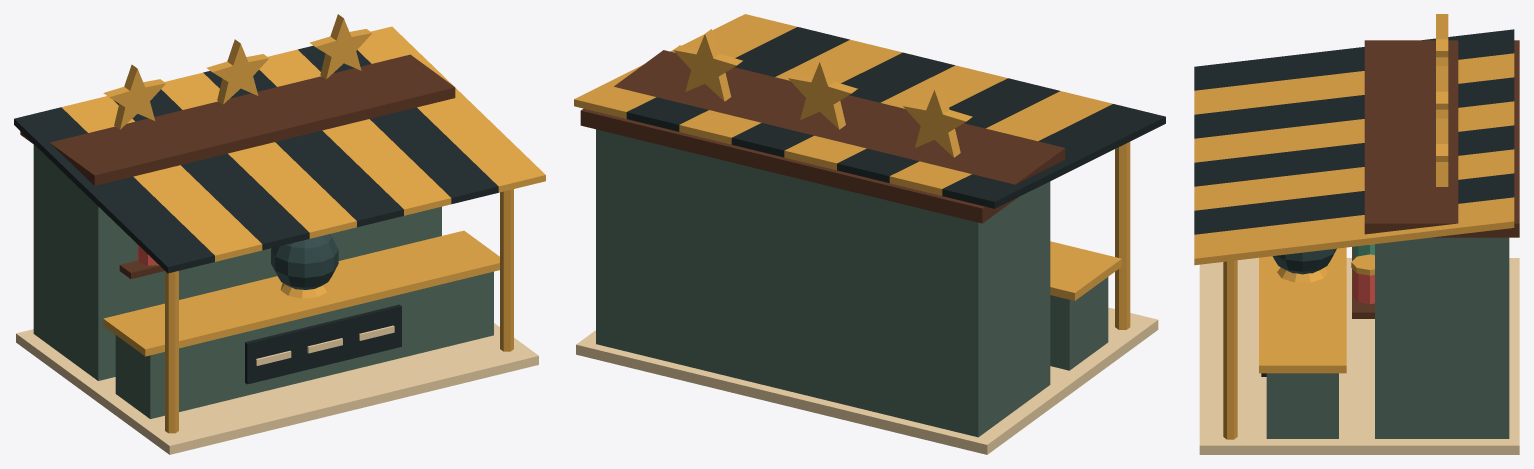
The model's file is ParkParkBoothFortune.obj.
3 renders of one model, left to right at view 1: azimuth 30°, elevation 25°; view 2: azimuth 150°, elevation 25°; view 3: azimuth 270°, elevation 25°, orthographic. The views are drawn at different scales.
Parts seen in each view (by area): view 1: ParkParkBoothFortune; view 2: ParkParkBoothFortune; view 3: ParkParkBoothFortune.
Boxes of the visible parts, x1,y1,x2,y2 form: ParkParkBoothFortune: (14,14,545,454); ParkParkBoothFortune: (574,14,1165,454); ParkParkBoothFortune: (1194,14,1519,454).
Size of the model in its own units: 8.8 by 6.3 by 6.3.
